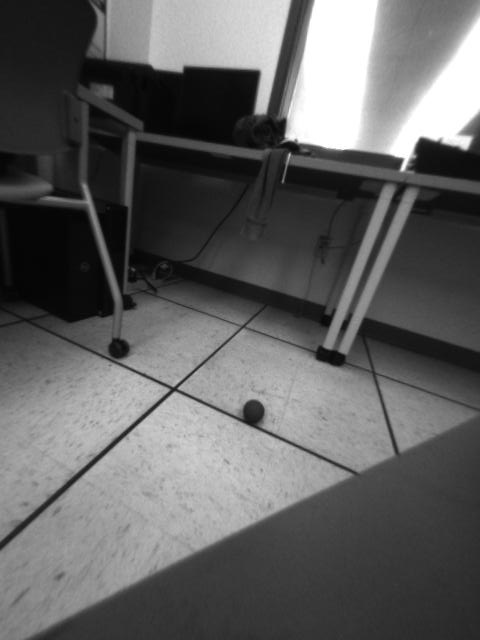dogtoy: (238, 390, 275, 430)
